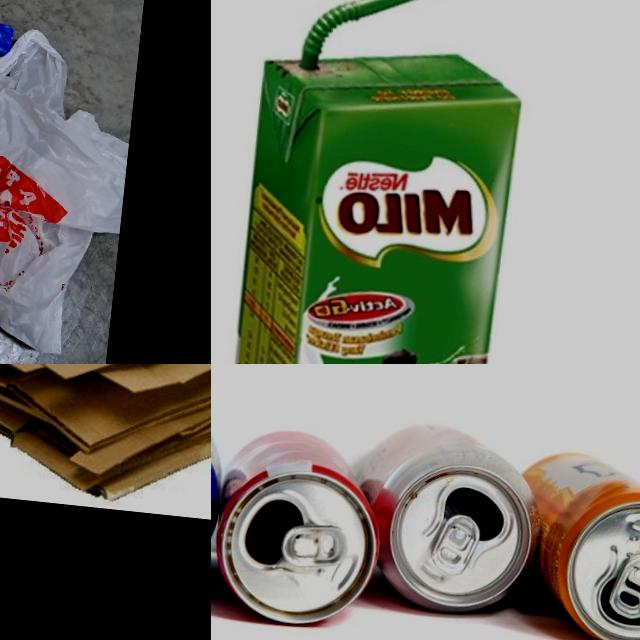aba de lata: (429, 510, 481, 575), (281, 520, 349, 568), (606, 552, 640, 620)
caixinha: (211, 30, 526, 364)
lata: (337, 414, 550, 620), (211, 422, 391, 635), (505, 444, 640, 640)
papelão: (0, 364, 211, 535)
sacola plástica: (0, 25, 139, 358)
tampa plástica: (0, 15, 13, 57)
